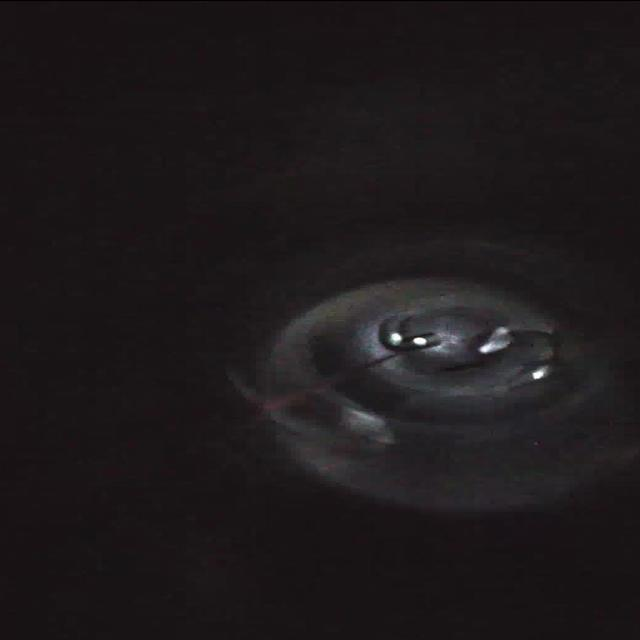impurity: (509, 324, 559, 359), (478, 326, 510, 356)
